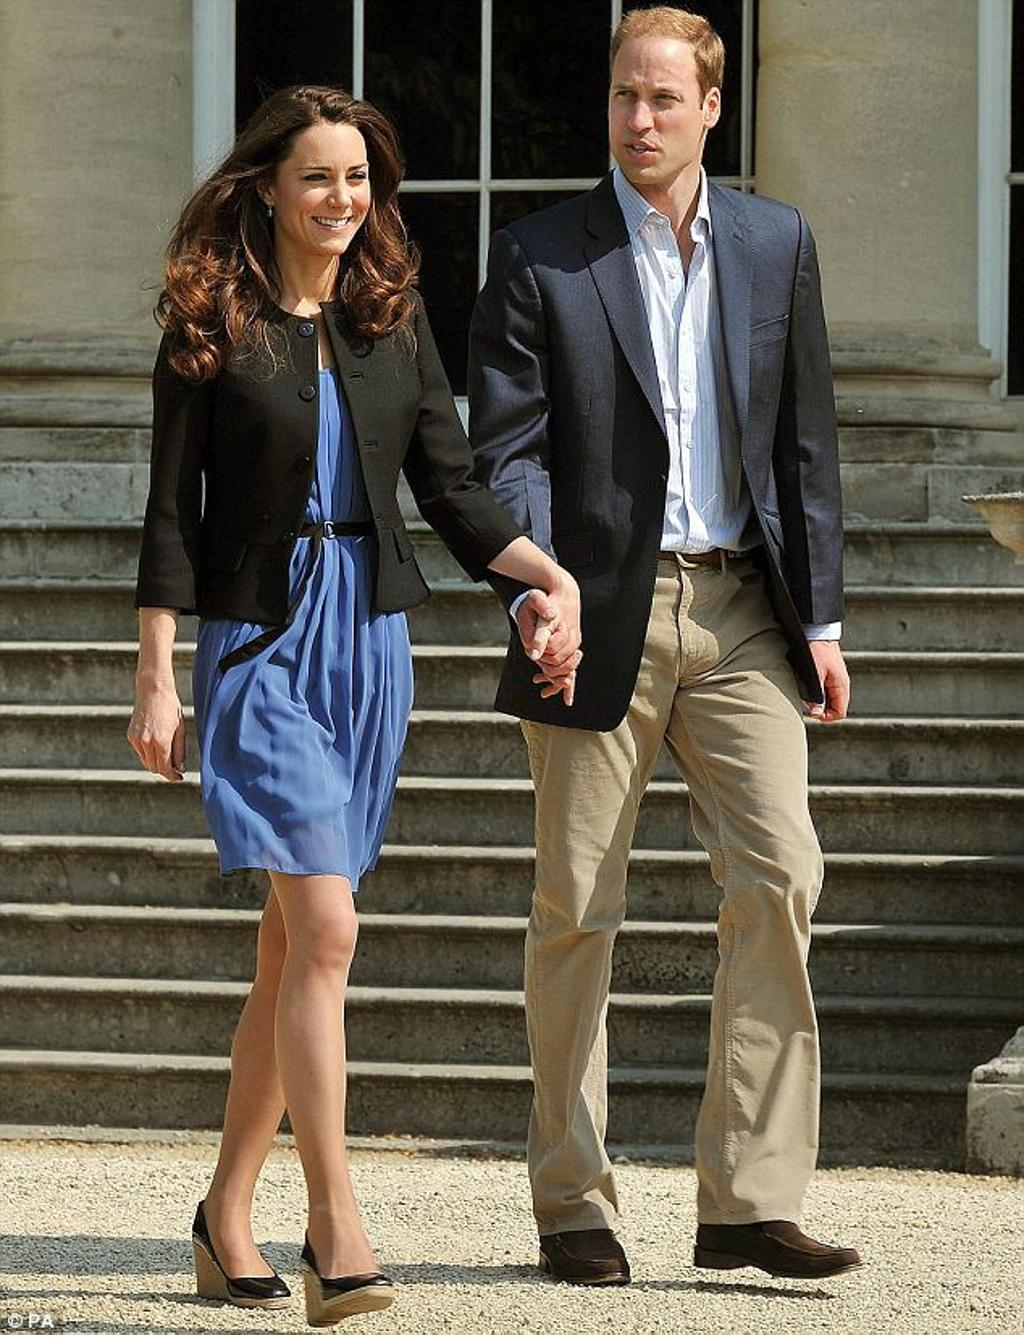face: (604, 26, 700, 182), (276, 128, 372, 253)
